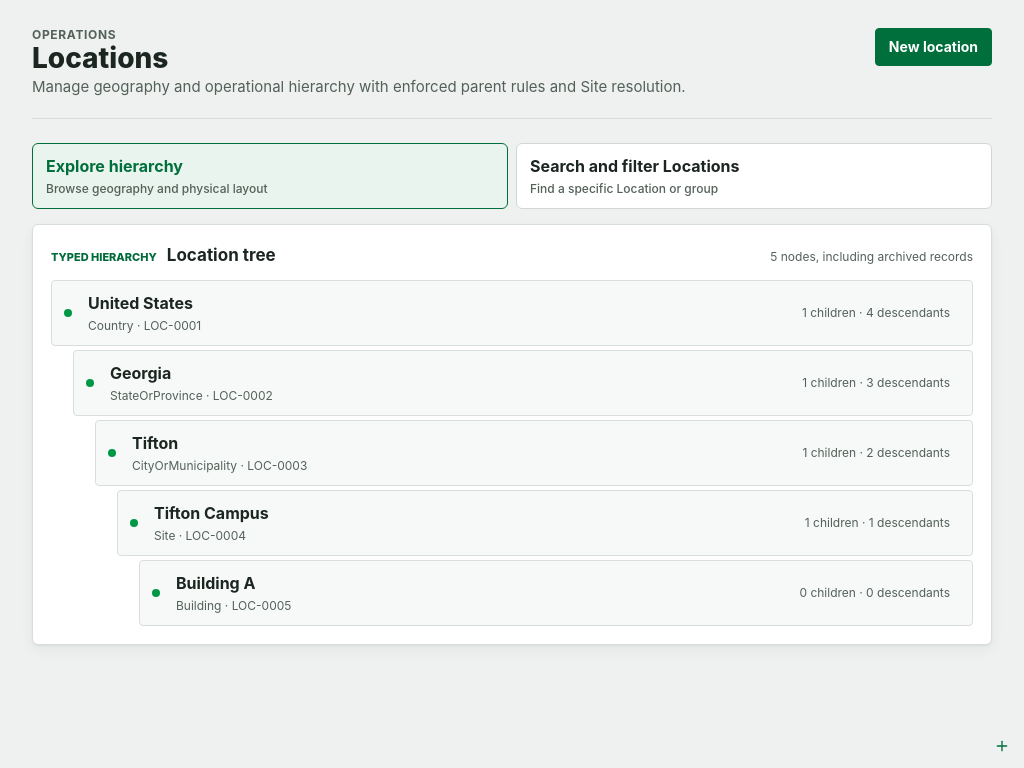
Test case: operational foundation workspaces › keeps hierarchy exploration separate from Location search and filtering
The width and height of the screenshot is (1024, 768).
Expected: the heading "Locations" is shown, [32, 41, 168, 75]
Click the button "Search and filter Locations".
click(635, 166)  # box [516, 143, 992, 209]
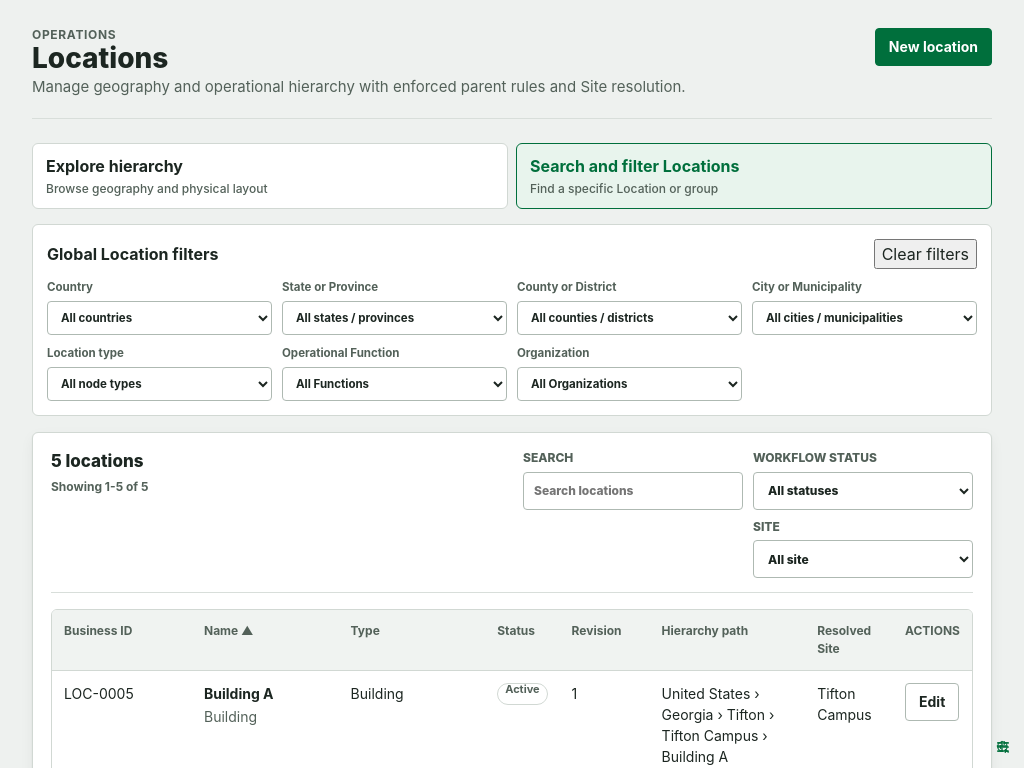
Now the field is shown, box [523, 472, 743, 510]
